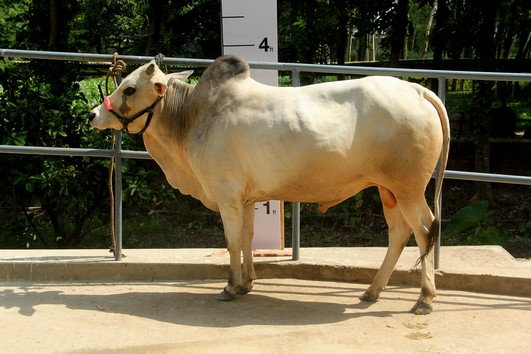cow: (83, 51, 457, 317)
